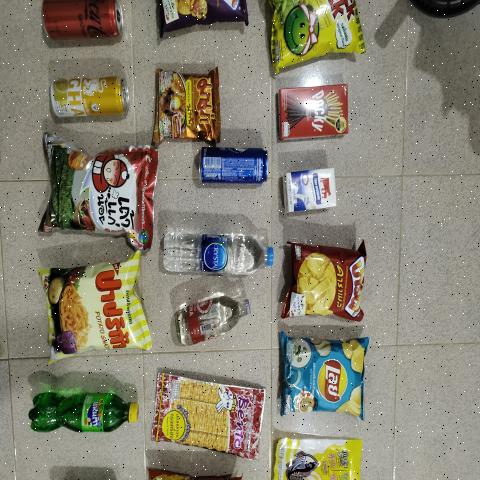bento_red: (149, 367, 264, 459)
coke_red: (37, 0, 125, 42)
crystal: (160, 229, 274, 280)
fanta_green: (24, 387, 142, 438)
lay_blue: (282, 332, 366, 418)
mama: (158, 77, 216, 140)
paprika: (34, 258, 151, 356)
party_red: (279, 236, 365, 324)
pepsi_blue: (194, 146, 271, 188)
pokki: (275, 89, 350, 138)
singha_soda: (159, 290, 256, 354)
singha_yellow: (48, 75, 128, 120)
taokaenoi: (37, 135, 153, 248)
thai_denmark: (279, 168, 340, 214)
